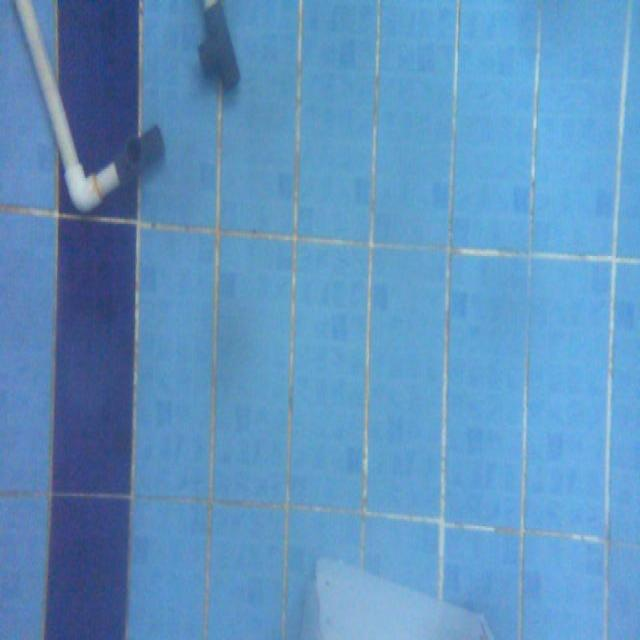Cube: (1, 0, 638, 638)
Cuboid: (297, 550, 498, 638)
